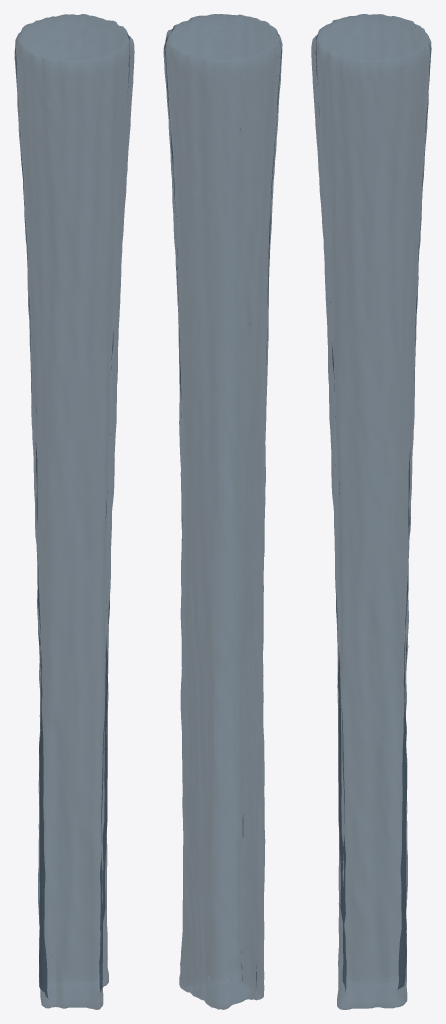
File: water_9.dae
3 views of the same model, side by side, from view 1: azimuth 90°, elevation 25°; view 2: azimuth 210°, elevation 25°; view 3: azimuth 270°, elevation 25° (orthographic).
Parts seen in each view (by area): view 1: Water_stream_001; view 2: Water_stream_001; view 3: Water_stream_001.
Boxes of the visible parts, <box> form: Water_stream_001: <box>14,14,134,1009</box>; Water_stream_001: <box>163,14,282,1009</box>; Water_stream_001: <box>311,14,431,1009</box>.
Size of the model in its own units: 0.0639 by 0.0642 by 0.5663.
